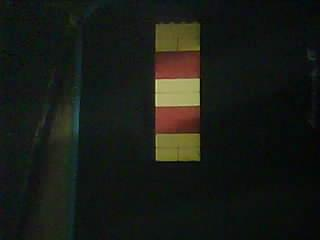lego: (154, 21, 202, 163)
